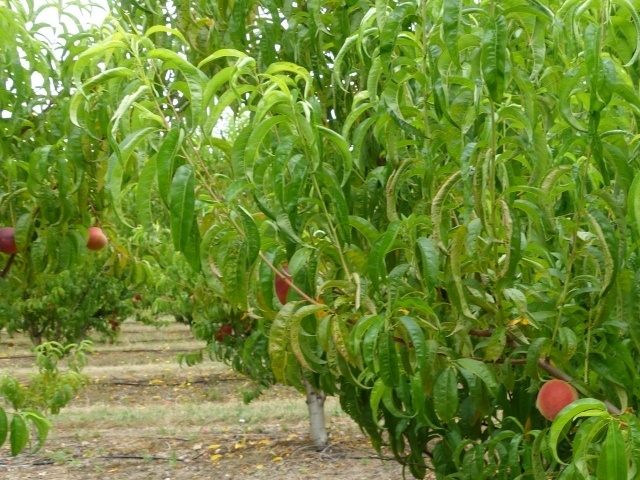peach: (532, 374, 579, 423), (268, 255, 303, 310), (80, 223, 108, 255), (1, 223, 24, 257)
